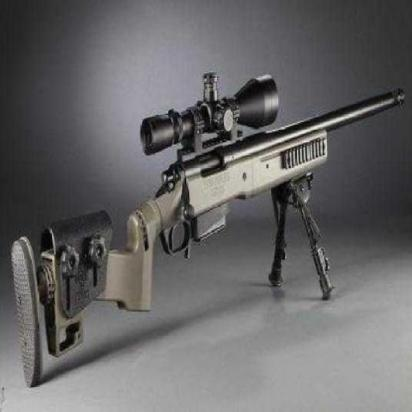Gun: (14, 37, 399, 380)
